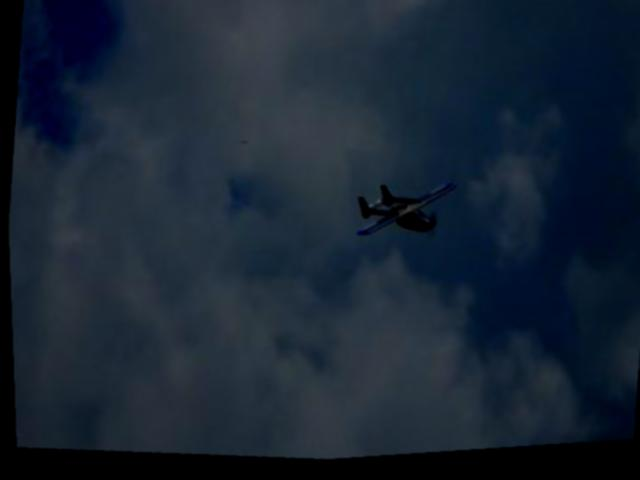uav: (344, 168, 459, 255)
